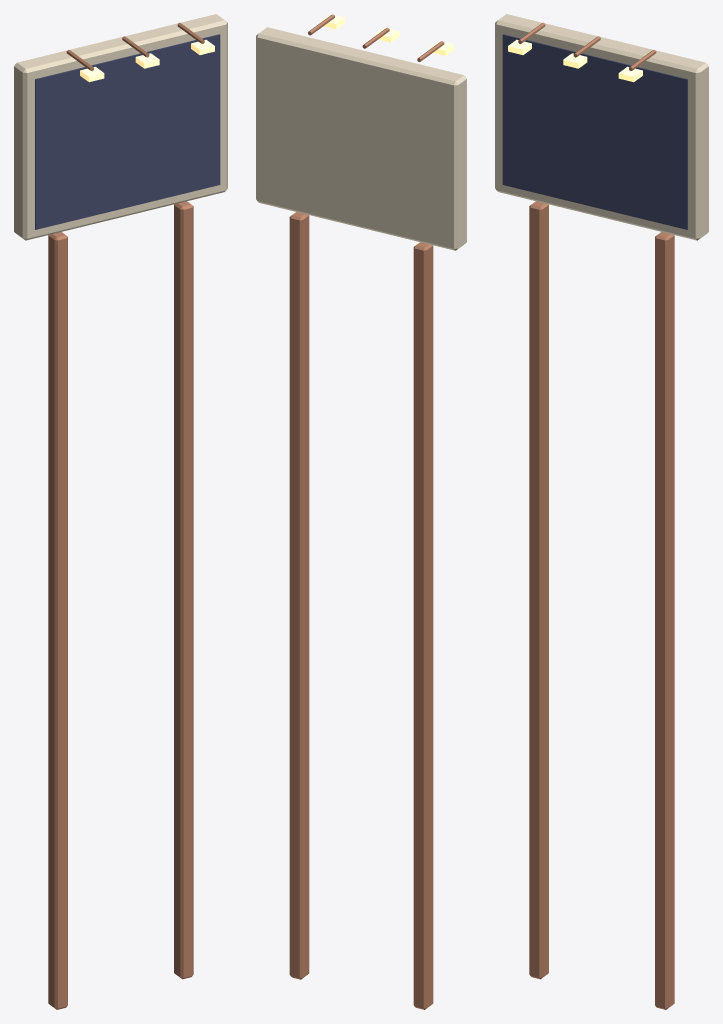
Rendered from sf4_billboard_2.glb.
The picture shows the model from 3 angles, left to right: view 1: azimuth 30°, elevation 25°; view 2: azimuth 150°, elevation 25°; view 3: azimuth 330°, elevation 25°; orthographic projection.
Parts seen in each view (by area): view 1: sf4_billboard_2__sf3-burnished-copper, sf4_billboard_2__sf3-midnight-indigo, sf4_billboard_2__sf3-warm-ivory, sf4_billboard_2__sf3-warm-window; view 2: sf4_billboard_2__sf3-warm-ivory, sf4_billboard_2__sf3-burnished-copper, sf4_billboard_2__sf3-warm-window; view 3: sf4_billboard_2__sf3-burnished-copper, sf4_billboard_2__sf3-midnight-indigo, sf4_billboard_2__sf3-warm-ivory, sf4_billboard_2__sf3-warm-window.
Part boxes in pixels (bbox=[...]): sf4_billboard_2__sf3-burnished-copper: bbox=[48, 22, 204, 1009]; sf4_billboard_2__sf3-midnight-indigo: bbox=[35, 34, 220, 229]; sf4_billboard_2__sf3-warm-ivory: bbox=[14, 14, 227, 240]; sf4_billboard_2__sf3-warm-window: bbox=[80, 39, 214, 82]; sf4_billboard_2__sf3-warm-ivory: bbox=[256, 27, 466, 250]; sf4_billboard_2__sf3-burnished-copper: bbox=[289, 14, 444, 1009]; sf4_billboard_2__sf3-warm-window: bbox=[321, 14, 454, 55]; sf4_billboard_2__sf3-burnished-copper: bbox=[518, 22, 674, 1009]; sf4_billboard_2__sf3-midnight-indigo: bbox=[502, 34, 687, 229]; sf4_billboard_2__sf3-warm-ivory: bbox=[495, 14, 708, 240]; sf4_billboard_2__sf3-warm-window: bbox=[508, 39, 642, 82].
Bounding box in the file's own units: 4 × 17.84 × 1.25.
